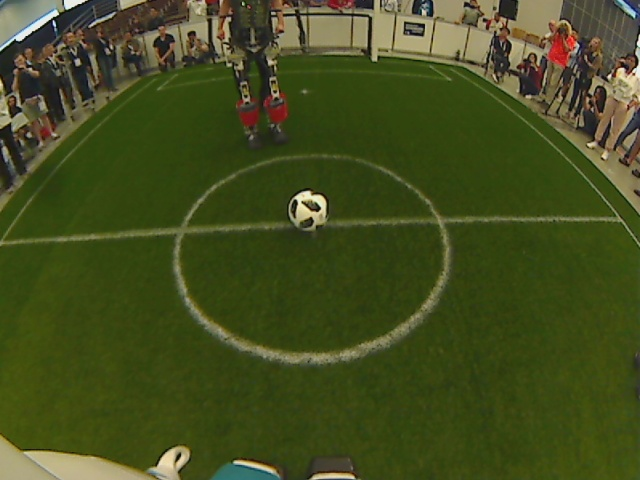ball: (283, 187, 333, 235)
